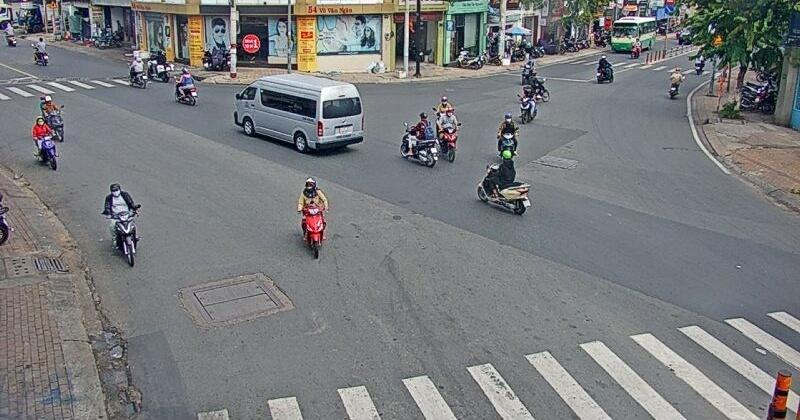xe may: (475, 150, 530, 216), (102, 182, 141, 267), (297, 176, 328, 258), (399, 112, 439, 167), (32, 115, 57, 170), (39, 94, 64, 143), (440, 109, 461, 161), (497, 113, 519, 155), (174, 67, 197, 106), (516, 86, 537, 123)
xe van: (231, 73, 366, 151)
